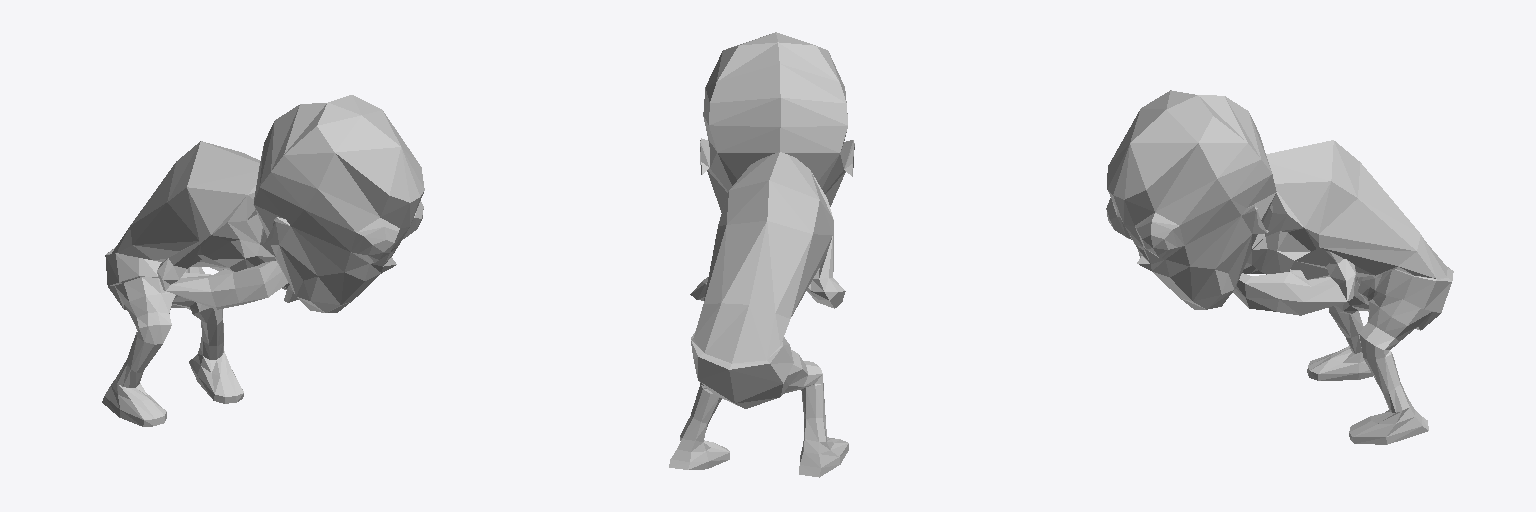
File: GuardianNormal_000020.obj
3 views of the same model, side by side, from view 1: azimuth 30°, elevation 25°; view 2: azimuth 150°, elevation 25°; view 3: azimuth 270°, elevation 25° (orthographic).
Visible parts, largest first — view 1: untitled2:Mesh1.001; view 2: untitled2:Mesh1.001; view 3: untitled2:Mesh1.001.
Boxes of the visible parts, x1,y1,x2,y2 form: untitled2:Mesh1.001: [102, 95, 424, 426]; untitled2:Mesh1.001: [669, 32, 854, 477]; untitled2:Mesh1.001: [1106, 90, 1453, 444].
Size of the model in its own units: 7.37 by 11.86 by 10.6.